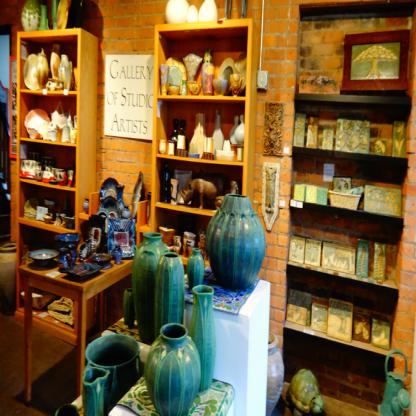vase: (206, 192, 266, 294), (143, 323, 200, 415), (132, 232, 168, 342), (188, 282, 217, 396), (154, 250, 186, 342), (82, 366, 110, 415), (186, 247, 206, 292), (124, 284, 136, 323)
